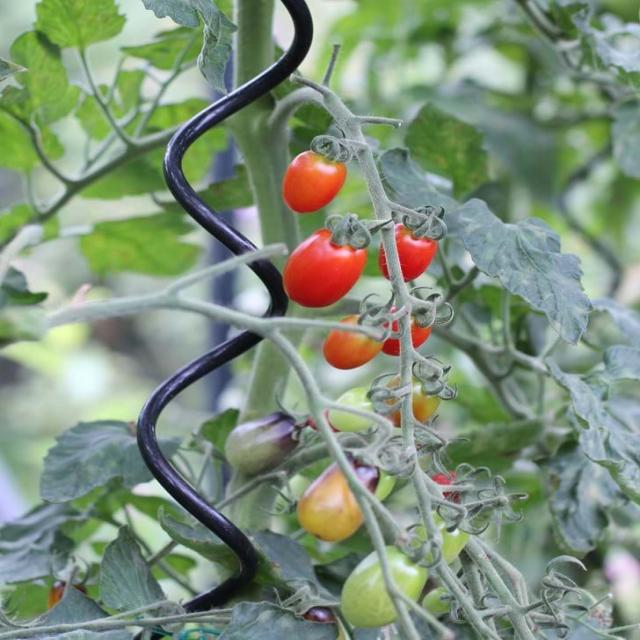level 2: (342, 543, 431, 629), (382, 514, 474, 586), (330, 382, 400, 430)
level 5: (324, 311, 396, 370)
level 6: (282, 223, 368, 308), (404, 467, 484, 525), (379, 211, 438, 285), (284, 146, 344, 212), (379, 304, 438, 354)
